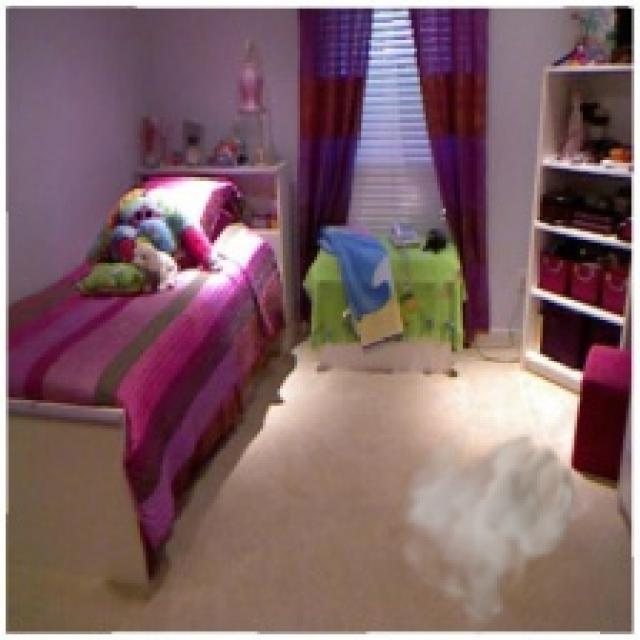smoke: (394, 414, 597, 637)
